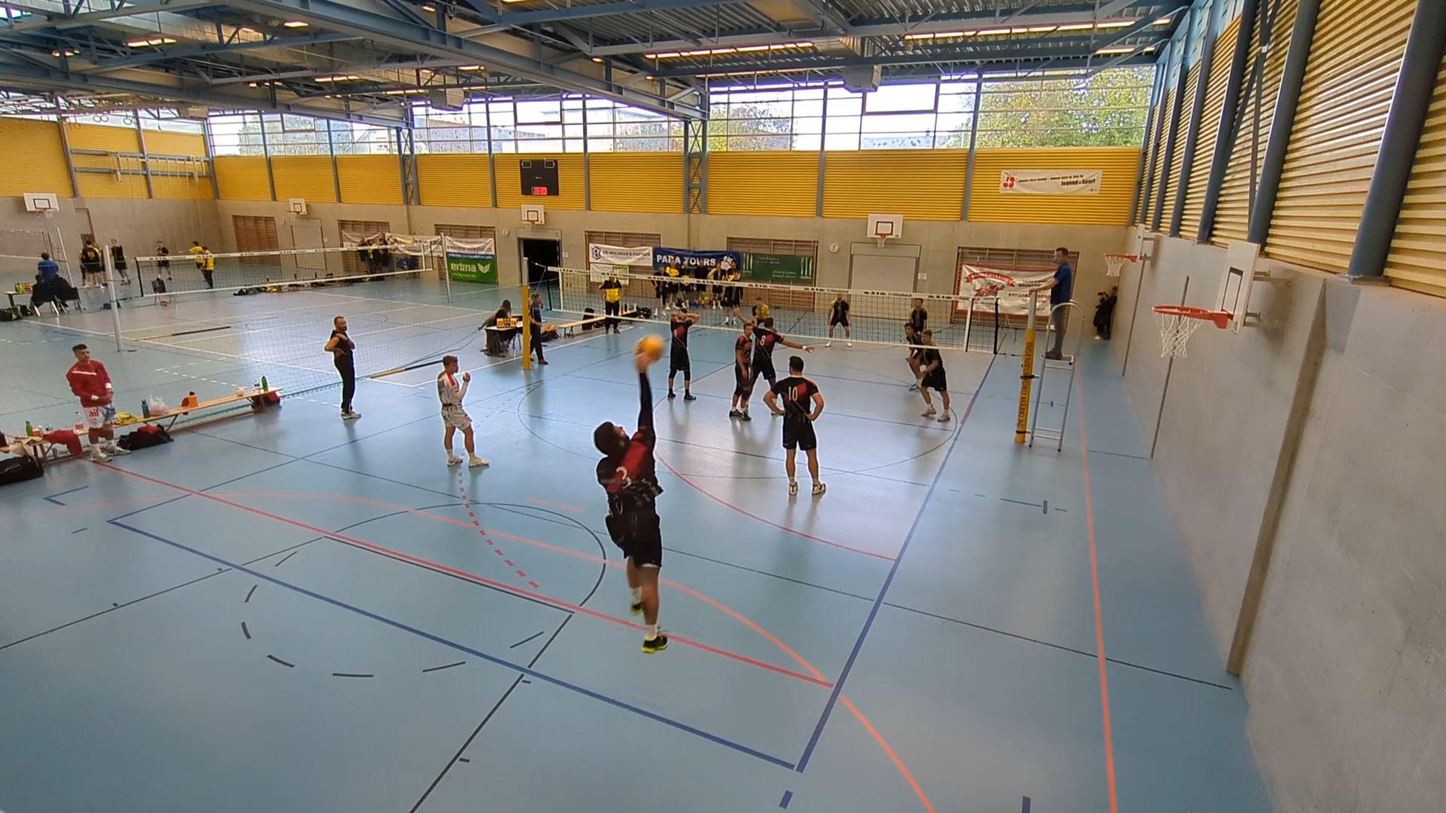battuta: (590, 350, 671, 653)
